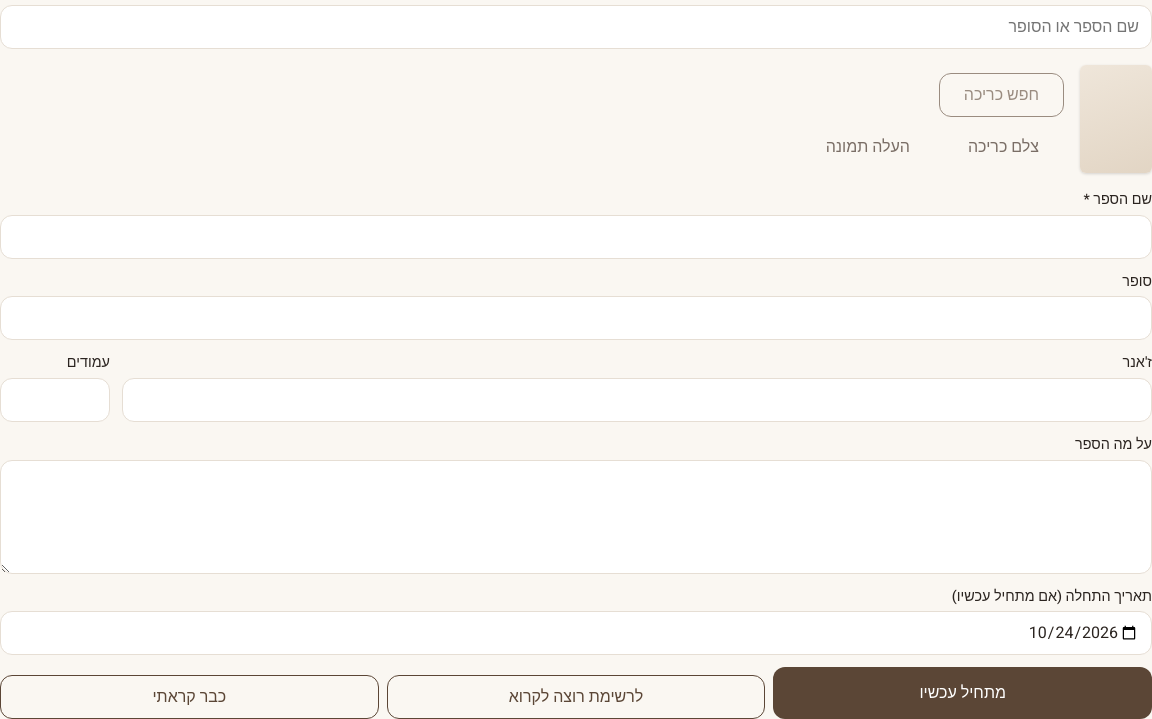
NewBook › "כבר קראתי" opens the history fields with an empty end date
(page scrolled)
Expected: the text "פרטי הקריאה" is not shown
Click the button "כבר קראתי" at (189, 697), box [0,675,379,718]
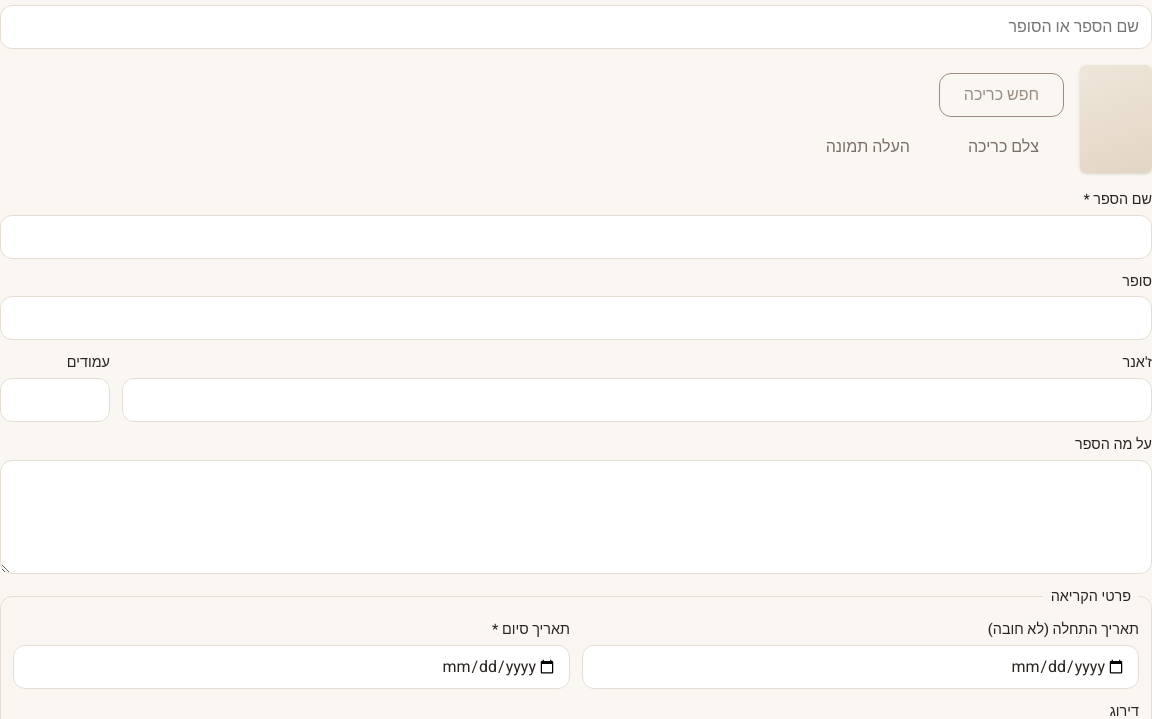
Expected: the date field labelled "תאריך סיום *" is empty, [13,645,570,689]
Expected: the date field labelled "תאריך התחלה (לא חובה)" is empty, [582,645,1139,689]
Expected: the text labelled "תאריך התחלה (אם מתחיל עכשיו)" is gone
